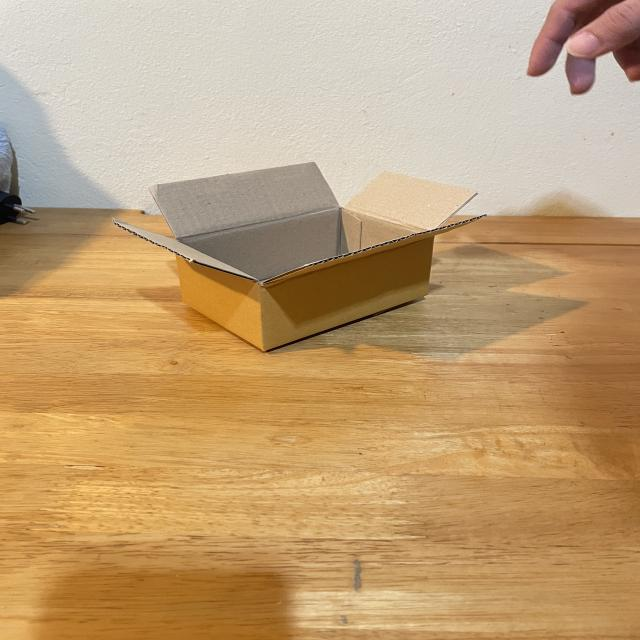box: (114, 161, 488, 353)
opened: (115, 161, 489, 289)
